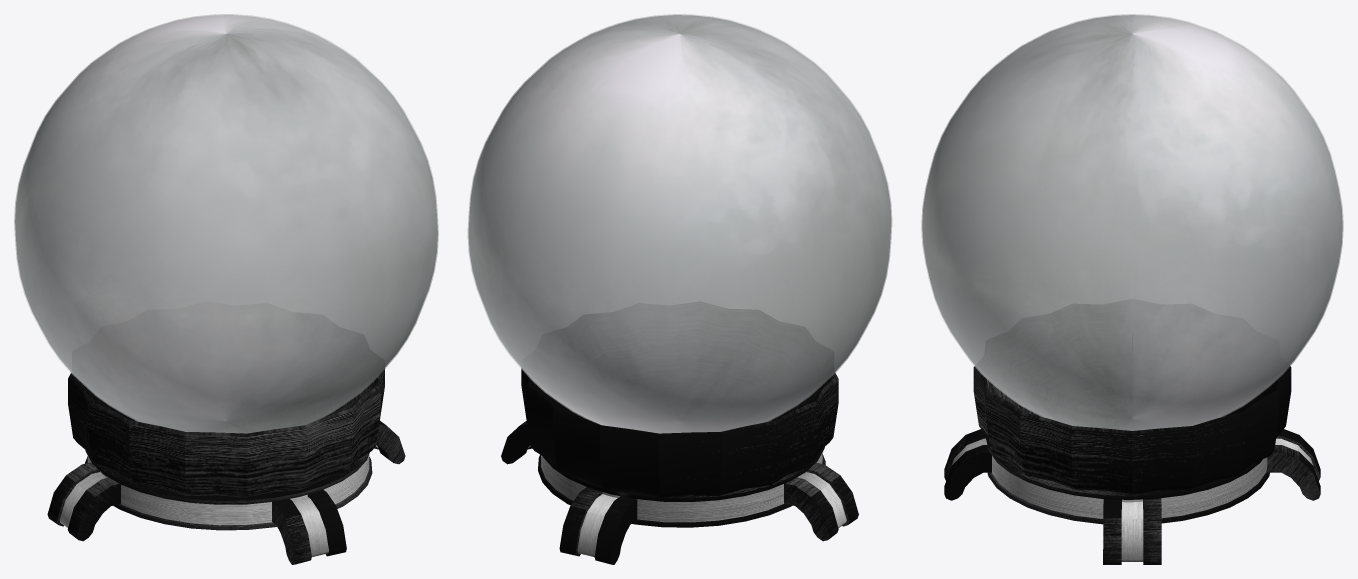
Rendered from crystal_ball.glb.
3 views of the same model, side by side, from view 1: azimuth 30°, elevation 25°; view 2: azimuth 150°, elevation 25°; view 3: azimuth 270°, elevation 25° (orthographic).
Parts seen in each view (by area): view 1: Ball_01 - Default_0, Mist, Stand_02 - Default_0, Stand_08 - Default_0; view 2: Ball_01 - Default_0, Mist, Stand_02 - Default_0, Stand_08 - Default_0; view 3: Ball_01 - Default_0, Mist, Stand_02 - Default_0, Stand_08 - Default_0.
Boxes of the visible parts, left/top/right/bottom form: Ball_01 - Default_0: left=14, top=14, right=438, bottom=433; Mist: left=15, top=15, right=437, bottom=433; Stand_02 - Default_0: left=47, top=368, right=405, bottom=564; Stand_08 - Default_0: left=59, top=445, right=378, bottom=556; Ball_01 - Default_0: left=467, top=14, right=892, bottom=433; Mist: left=469, top=15, right=891, bottom=433; Stand_02 - Default_0: left=501, top=368, right=858, bottom=564; Stand_08 - Default_0: left=528, top=445, right=846, bottom=557; Ball_01 - Default_0: left=921, top=14, right=1343, bottom=430; Mist: left=922, top=15, right=1342, bottom=430; Stand_02 - Default_0: left=944, top=366, right=1320, bottom=564; Stand_08 - Default_0: left=947, top=438, right=1317, bottom=561.
Size of the model in its own units: 136 by 162 by 136.
Materials: 4 (3 with a texture image).
